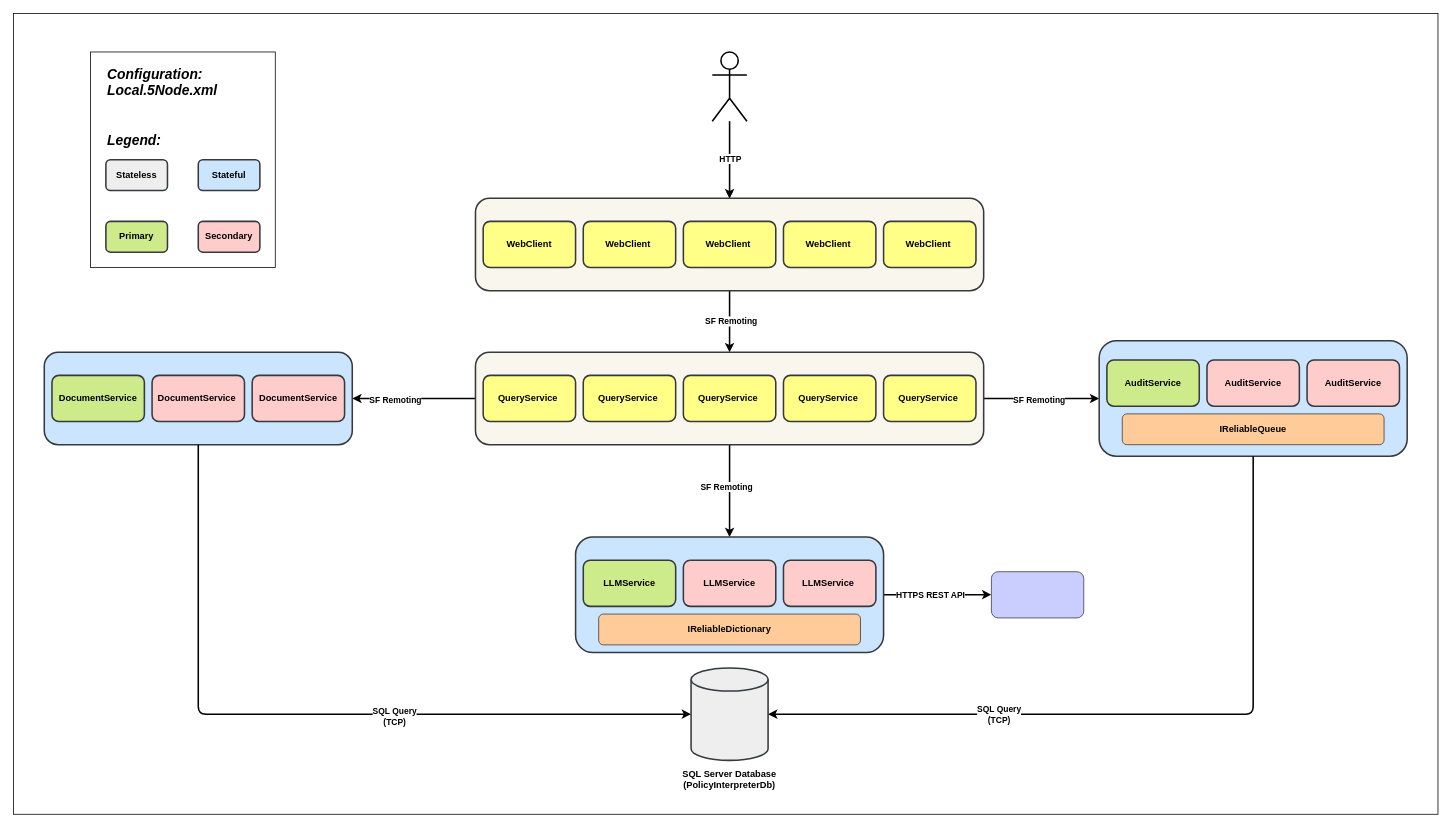
This 1451x828 diagram has some shape labels left out. The shapes that lost their labels are listed below. From the top down, each one's centre as x and y in pixels, then its label:
(x=729, y=86): User
(x=1037, y=594): Gemini API
